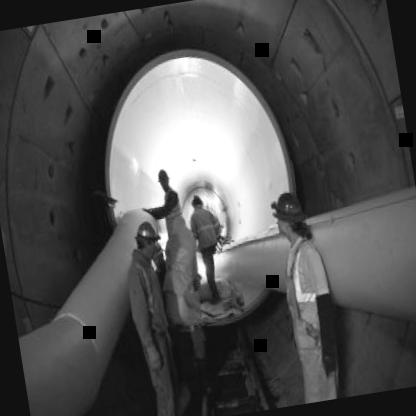helmet: (270, 183, 308, 240), (126, 212, 162, 268), (150, 164, 174, 197)
